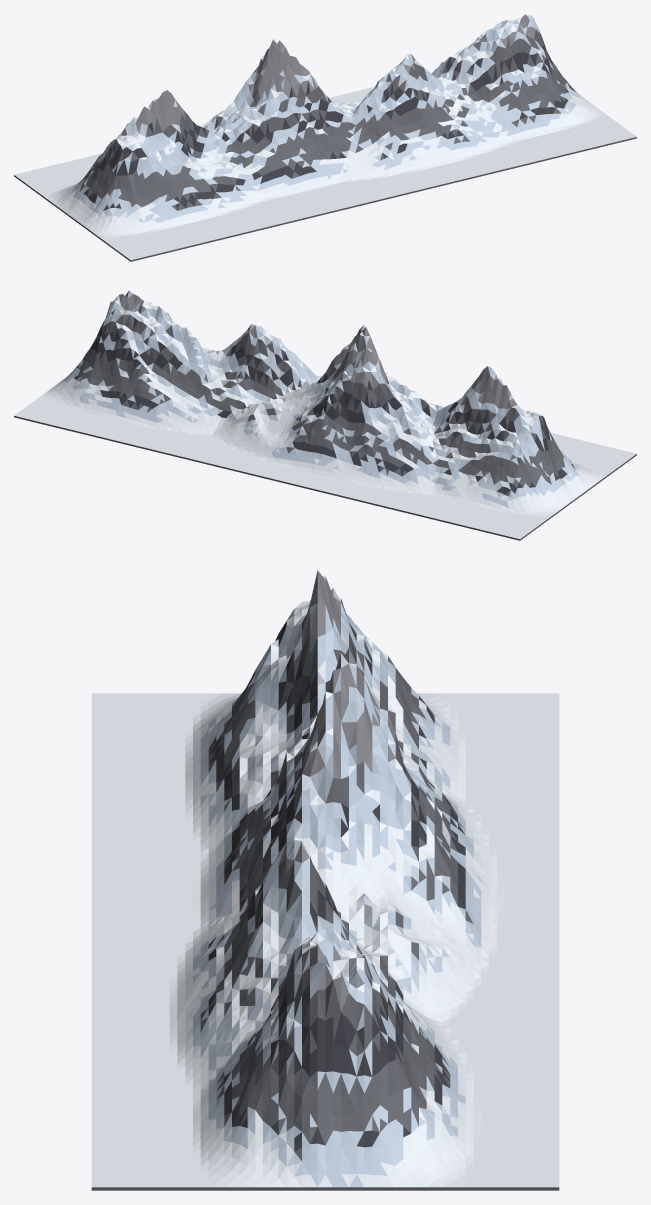
The model's file is mountain_range.glb.
The picture shows the model from 3 angles, top to bottom: view 1: azimuth 30°, elevation 25°; view 2: azimuth 150°, elevation 25°; view 3: azimuth 270°, elevation 25°; orthographic projection. The views are drawn at different scales.
Visible parts, largest first — view 1: mountain_range; view 2: mountain_range; view 3: mountain_range.
Boxes of the visible parts, x1,y1,x2,y2 form: mountain_range: [14, 14, 636, 261]; mountain_range: [14, 290, 636, 540]; mountain_range: [91, 570, 559, 1190].
Size of the model in its own units: 1000 by 236 by 400.
1 material, 1 textured.
